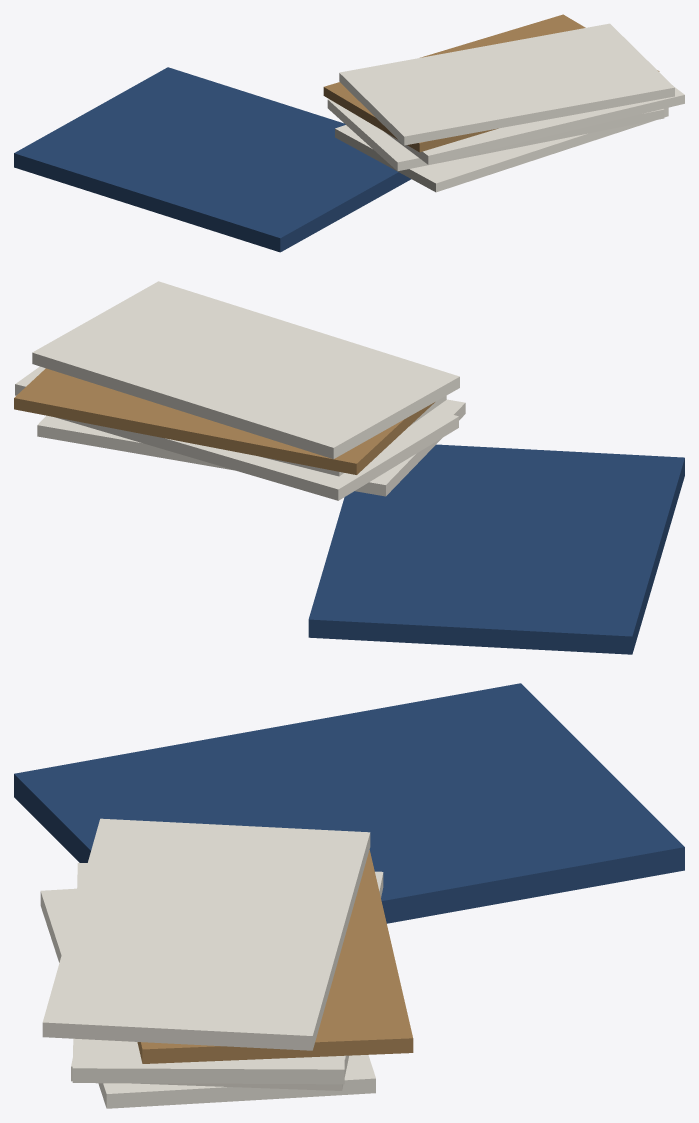
Rendered from bills-catalogue-postcard-postcard.glb.
3 views of the same model, one above another, from view 1: azimuth 30°, elevation 25°; view 2: azimuth 150°, elevation 25°; view 3: azimuth 270°, elevation 25° (orthographic). The views are drawn at different scales.
Bounding box in the file's own units: 1.58 × 0.169 × 1.04.
